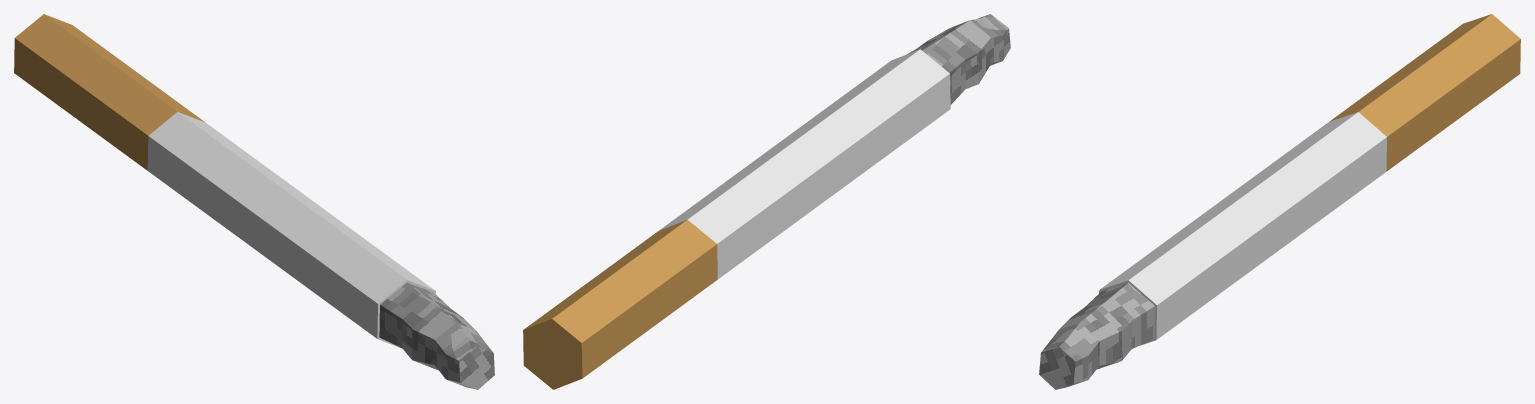
Rendered from cigarette.fbx.
3 views of the same model, side by side, from view 1: azimuth 30°, elevation 25°; view 2: azimuth 150°, elevation 25°; view 3: azimuth 330°, elevation 25° (orthographic).
Visible parts, largest first — view 1: Plane; view 2: Plane; view 3: Plane.
Boxes of the visible parts, box(x1,y1,x2,y2) form: Plane: box(14, 14, 494, 389); Plane: box(523, 14, 1010, 389); Plane: box(1039, 14, 1520, 389).
Size of the model in its own units: 0.9282 by 1.06 by 11.97.
